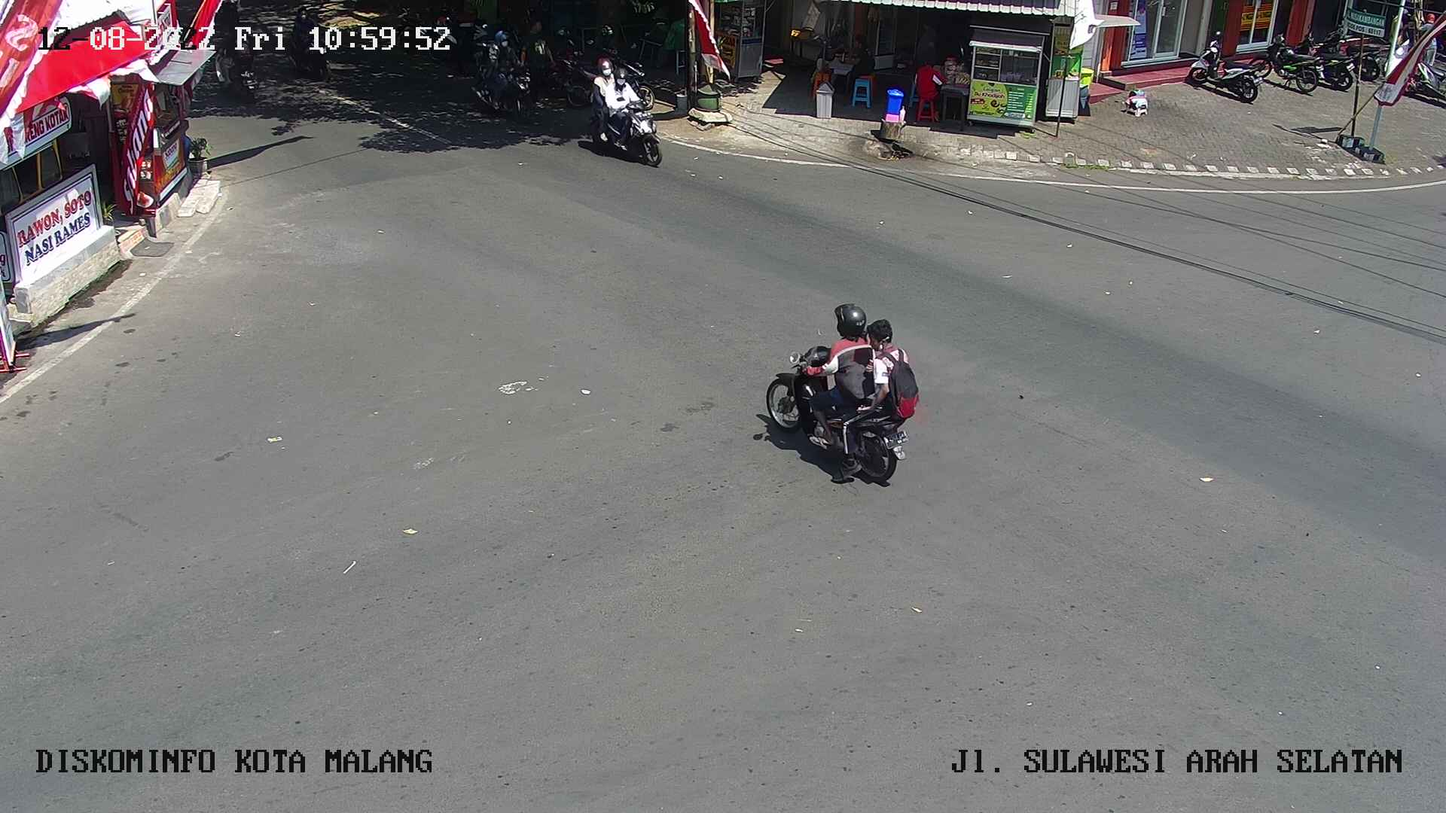with_helmet: (583, 58, 666, 171)
without_helmet: (755, 292, 922, 498)
